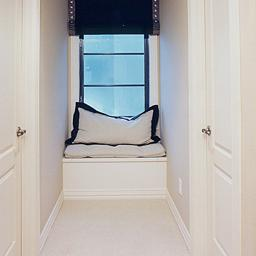Puerta: (197, 7, 240, 252), (3, 7, 29, 255)
Ventana: (70, 10, 154, 141)
